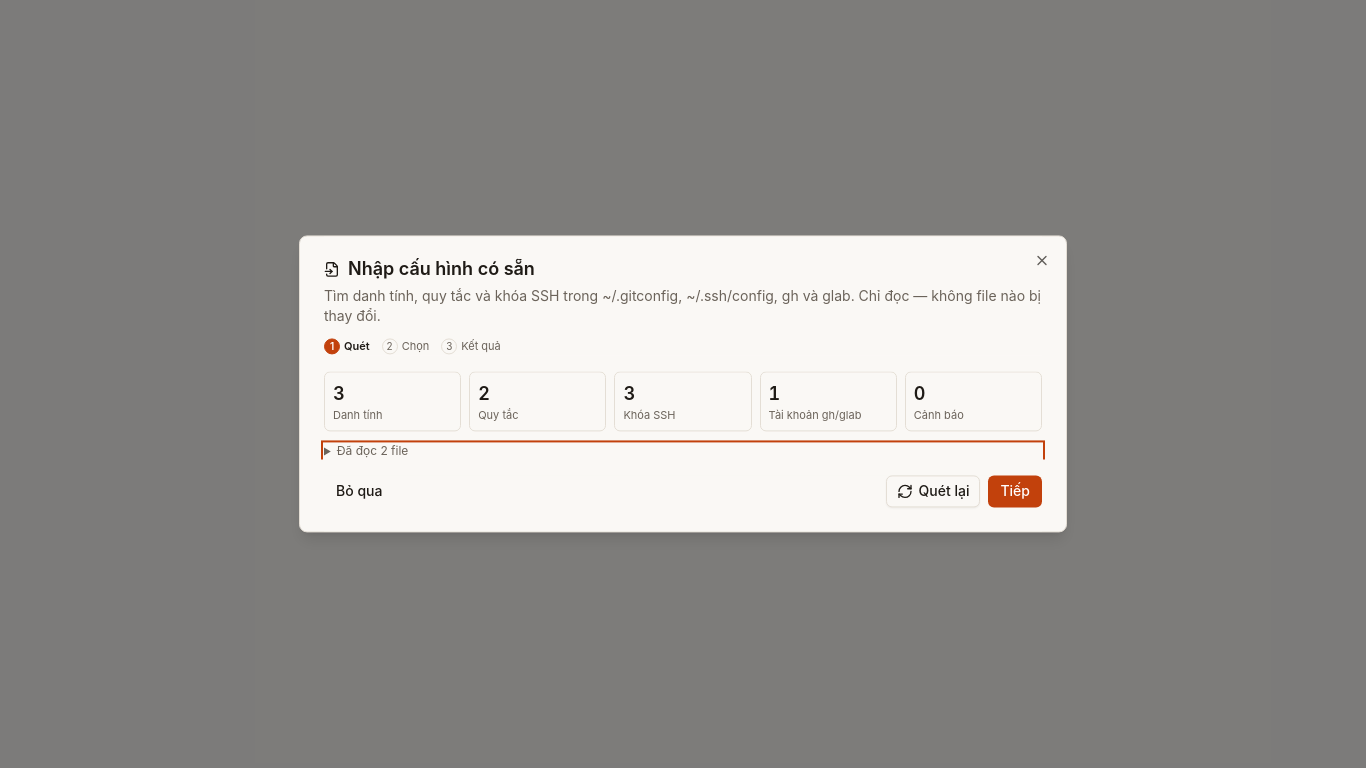
ImportWizard › summarises the scan, then lets the user choose and apply
This screenshot has width=1366, height=768.
Check: the text "Danh tính" is shown, box [333, 408, 382, 422]
Check: the text "Tài khoản gh/glab" is shown, box [769, 408, 861, 422]
Click the button "Tiếp". click: click(1015, 492)
box: [988, 476, 1042, 508]
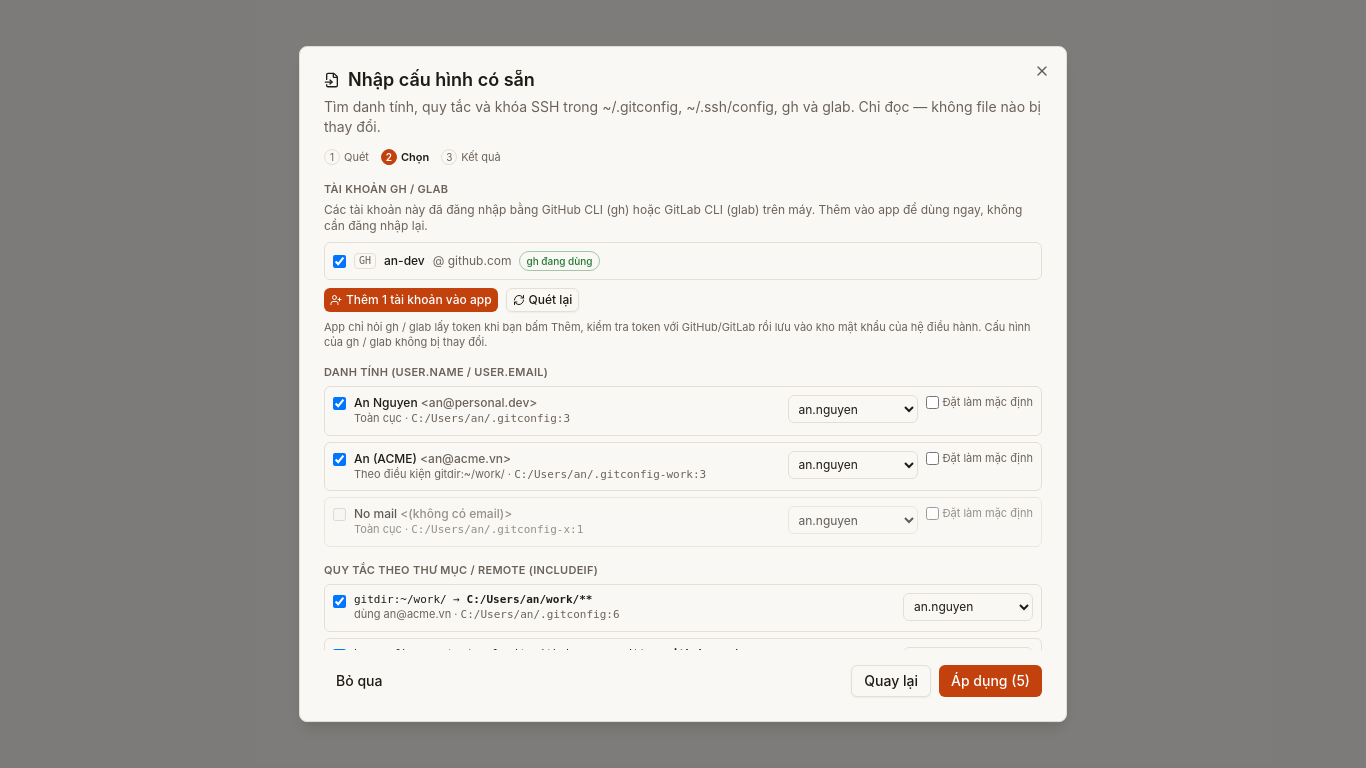
Check: the text "C:/Users/an/.gitconfig-work:3" is shown, box [514, 468, 706, 481]
Check: the checkbox labelled "an-dev @ github.com" is checked, box [333, 255, 346, 268]
# The only account is preselected everywhere → 2 identities + 2 rules + 1 key.
Click the checkbox named "an@personal.dev". click: click(340, 404)
box: [333, 397, 346, 410]
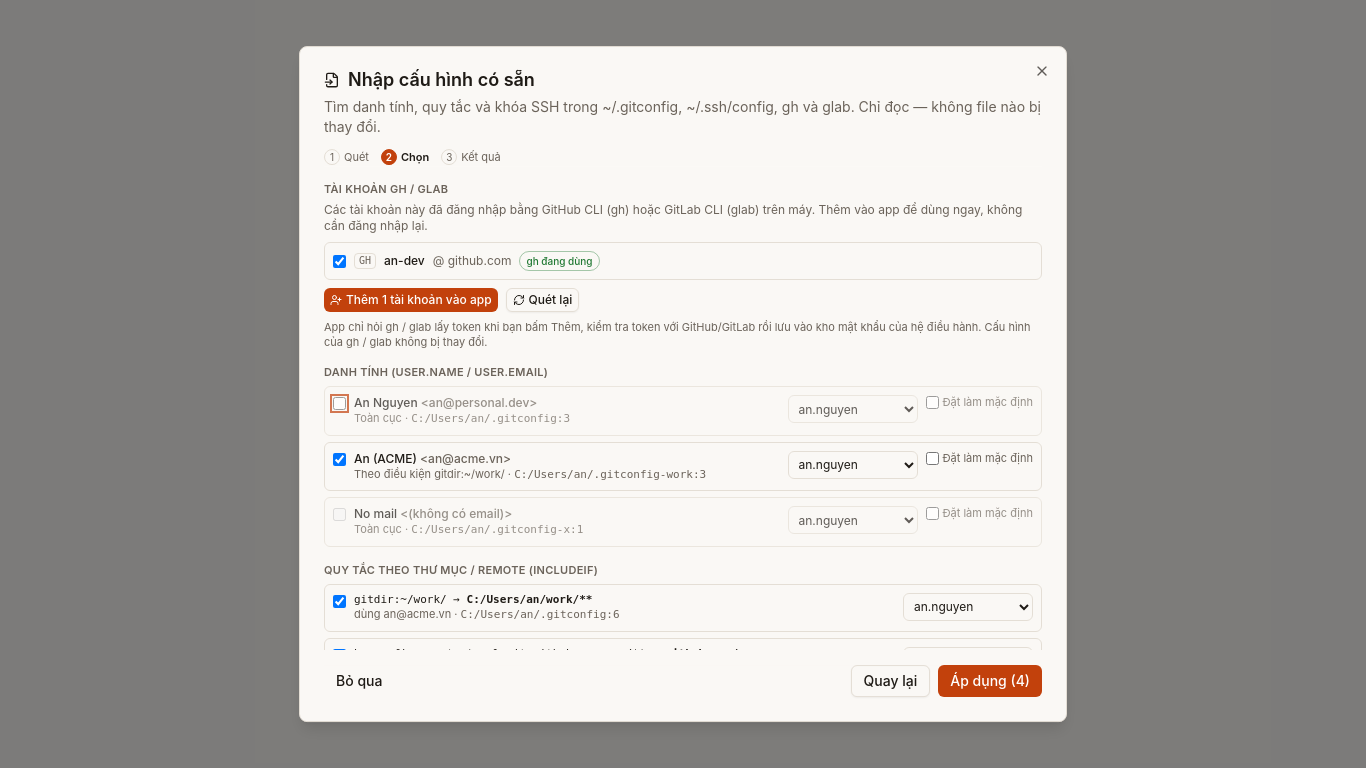
Click the button "Áp dụng (4)". click: click(990, 681)
box: [938, 665, 1042, 697]
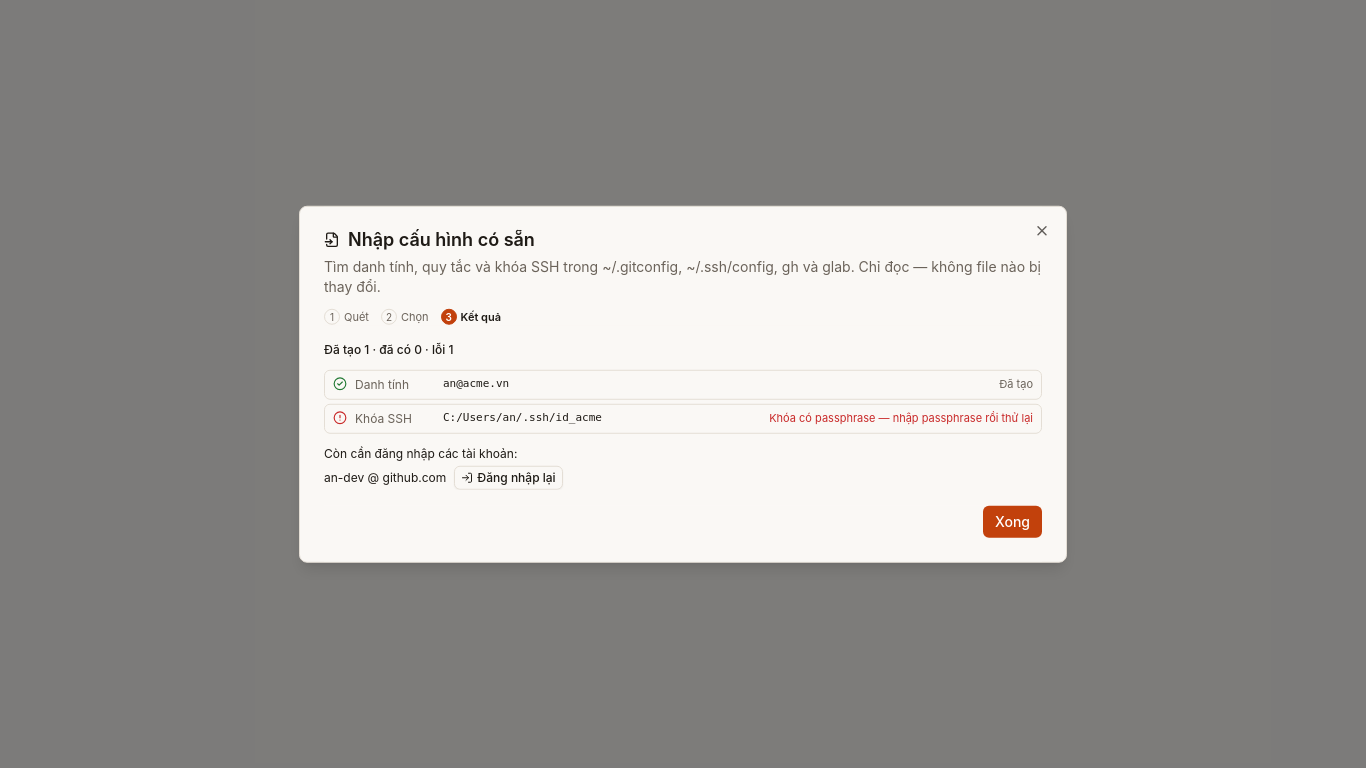
Check: the text "an-dev @ github.com" is shown, box [324, 469, 446, 485]
Check: the text "Đã tạo 1 · đã có 0 · lỗi 1" is shown, box [324, 341, 453, 356]
Check: the text "Khóa có passphrase — nhập passphrase rồi thử lại" is shown, box [769, 410, 1033, 425]
